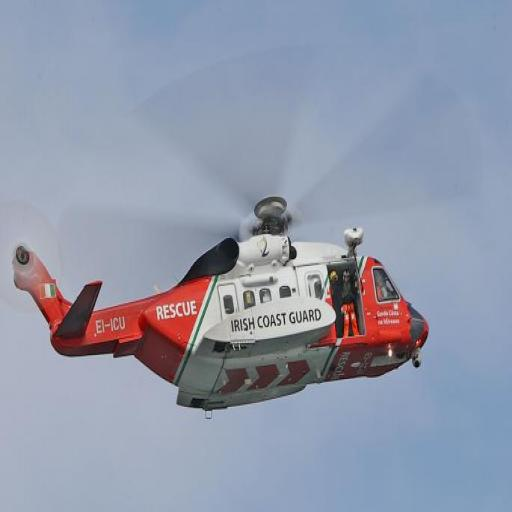helicopter: (2, 186, 435, 425)
